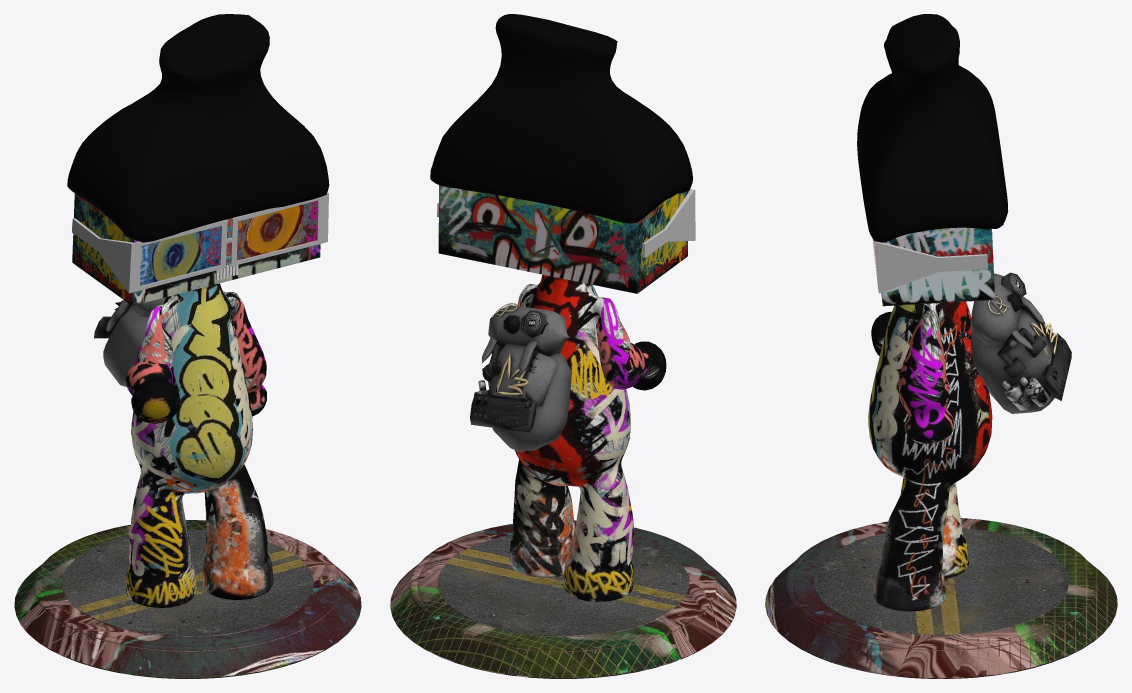
3 renders of one model, left to right at view 1: azimuth 30°, elevation 25°; view 2: azimuth 150°, elevation 25°; view 3: azimuth 270°, elevation 25°, orthographic.
Size of the model in its own units: 1.45 by 2.65 by 1.45.
Materials: 10 (5 with a texture image).
